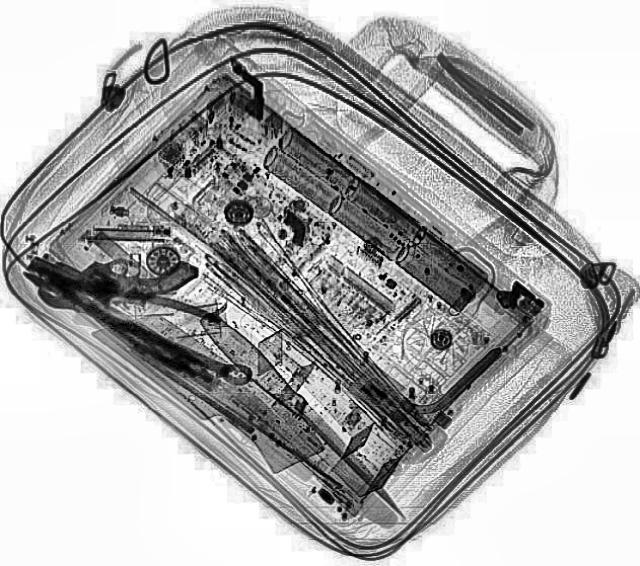Gun: (22, 210, 200, 326)
Knife: (190, 304, 420, 530)
Pliers: (24, 258, 226, 372)
Wrench: (32, 271, 258, 393)
